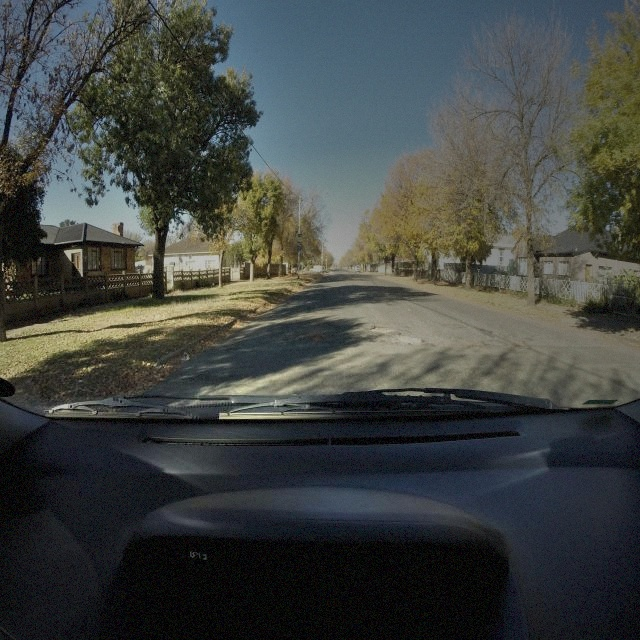pothole: (370, 324, 395, 336), (397, 335, 424, 345), (310, 331, 326, 342), (514, 344, 527, 351), (225, 346, 238, 352)
